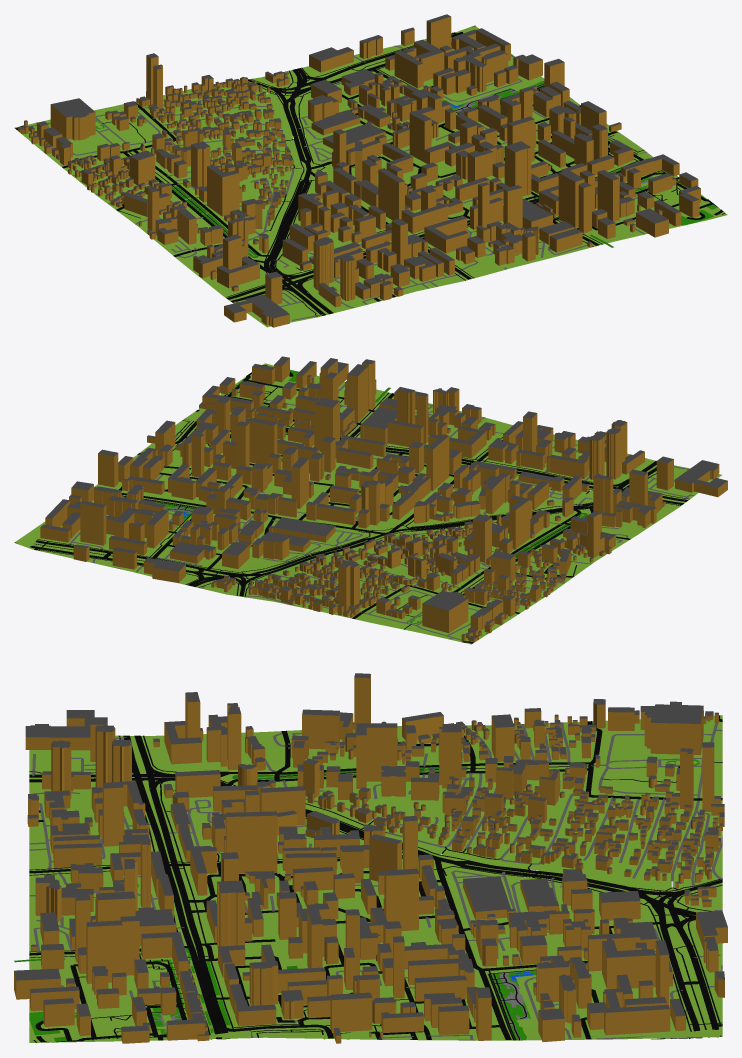
The model's file is tile_04_04.glb.
The picture shows the model from 3 angles, top to bottom: view 1: azimuth 30°, elevation 25°; view 2: azimuth 150°, elevation 25°; view 3: azimuth 270°, elevation 25°; orthographic projection. The views are drawn at different scales.
Visible parts, largest first — view 1: Ub_small.osm_buildings_04_04, Terrain_04_04, Ub_small.osm_roads_primary_04_04, Ub_small.osm_roads_service_04_04, Ub_small.osm_paths_footway_04_04, Ub_small.osm_roads_residential_04_04, Ub_small.osm_roads_tertiary_04_04, Ub_small.osm_roads_trunk_04_04, Ub_small.osm_vegetation_04_04, Ub_small.osm_roads_secondary_04_04; view 2: Ub_small.osm_buildings_04_04, Terrain_04_04, Ub_small.osm_roads_service_04_04, Ub_small.osm_roads_primary_04_04, Ub_small.osm_paths_footway_04_04, Ub_small.osm_roads_residential_04_04, Ub_small.osm_roads_secondary_04_04, Ub_small.osm_roads_trunk_04_04, Ub_small.osm_roads_tertiary_04_04; view 3: Ub_small.osm_buildings_04_04, Terrain_04_04, Ub_small.osm_roads_service_04_04, Ub_small.osm_roads_residential_04_04, Ub_small.osm_paths_footway_04_04, Ub_small.osm_roads_primary_04_04, Ub_small.osm_roads_trunk_04_04, Ub_small.osm_roads_secondary_04_04, Ub_small.osm_vegetation_04_04, Ub_small.osm_roads_tertiary_04_04, Ub_small.osm_areas_pedestrian_04_04.
Boxes of the visible parts, bbox=[...] form: Ub_small.osm_buildings_04_04: bbox=[18, 14, 700, 327]; Terrain_04_04: bbox=[14, 25, 727, 327]; Ub_small.osm_roads_primary_04_04: bbox=[253, 25, 475, 315]; Ub_small.osm_roads_service_04_04: bbox=[28, 45, 646, 320]; Ub_small.osm_paths_footway_04_04: bbox=[103, 33, 724, 316]; Ub_small.osm_roads_residential_04_04: bbox=[15, 32, 723, 301]; Ub_small.osm_roads_tertiary_04_04: bbox=[123, 149, 271, 262]; Ub_small.osm_roads_trunk_04_04: bbox=[226, 170, 620, 302]; Ub_small.osm_vegetation_04_04: bbox=[95, 81, 717, 225]; Ub_small.osm_roads_secondary_04_04: bbox=[248, 68, 643, 279]; Ub_small.osm_buildings_04_04: bbox=[40, 356, 727, 642]; Terrain_04_04: bbox=[14, 363, 721, 644]; Ub_small.osm_roads_service_04_04: bbox=[68, 382, 694, 641]; Ub_small.osm_roads_primary_04_04: bbox=[15, 461, 656, 586]; Ub_small.osm_paths_footway_04_04: bbox=[34, 365, 689, 629]; Ub_small.osm_roads_residential_04_04: bbox=[34, 372, 630, 643]; Ub_small.osm_roads_secondary_04_04: bbox=[121, 393, 502, 596]; Ub_small.osm_roads_trunk_04_04: bbox=[285, 427, 687, 504]; Ub_small.osm_roads_tertiary_04_04: bbox=[453, 507, 593, 594]; Ub_small.osm_buildings_04_04: bbox=[14, 673, 727, 1043]; Terrain_04_04: bbox=[29, 715, 722, 1042]; Ub_small.osm_roads_service_04_04: bbox=[29, 722, 722, 1040]; Ub_small.osm_roads_residential_04_04: bbox=[35, 715, 722, 1042]; Ub_small.osm_paths_footway_04_04: bbox=[29, 735, 722, 1042]; Ub_small.osm_roads_primary_04_04: bbox=[29, 771, 721, 1038]; Ub_small.osm_roads_trunk_04_04: bbox=[123, 735, 229, 1039]; Ub_small.osm_roads_secondary_04_04: bbox=[29, 854, 722, 1039]; Ub_small.osm_vegetation_04_04: bbox=[29, 759, 699, 1042]; Ub_small.osm_roads_tertiary_04_04: bbox=[220, 762, 593, 785]; Ub_small.osm_areas_pedestrian_04_04: bbox=[152, 973, 529, 1040].
Bounding box in the file's own units: 1031 × 122 × 958.
